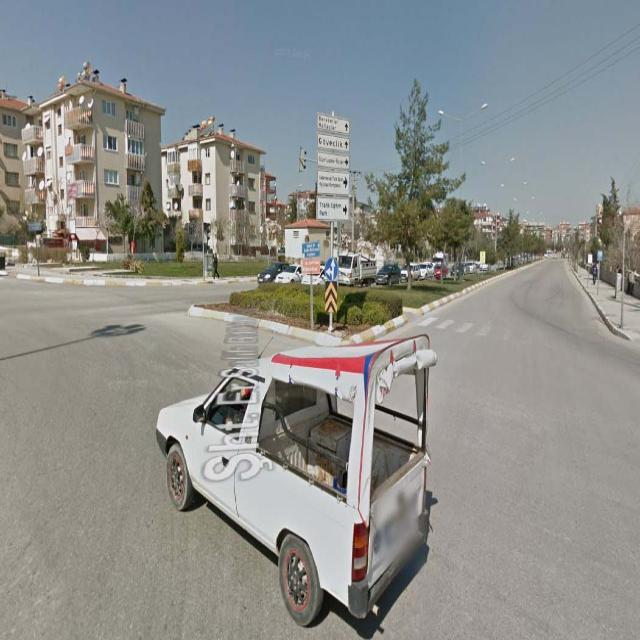ilerisol: (326, 258, 336, 279)
